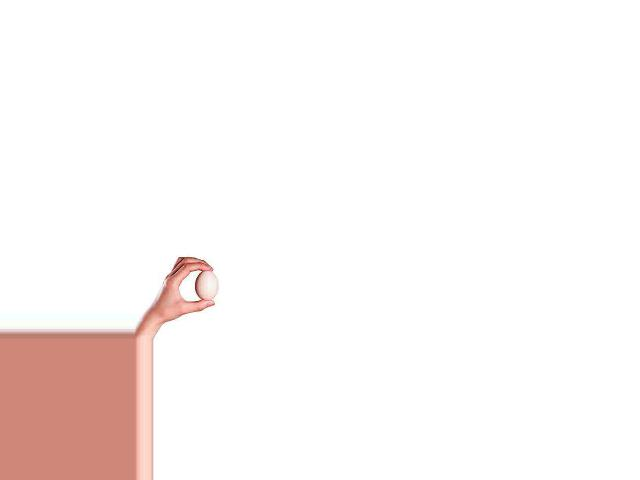egg: (194, 270, 218, 301)
